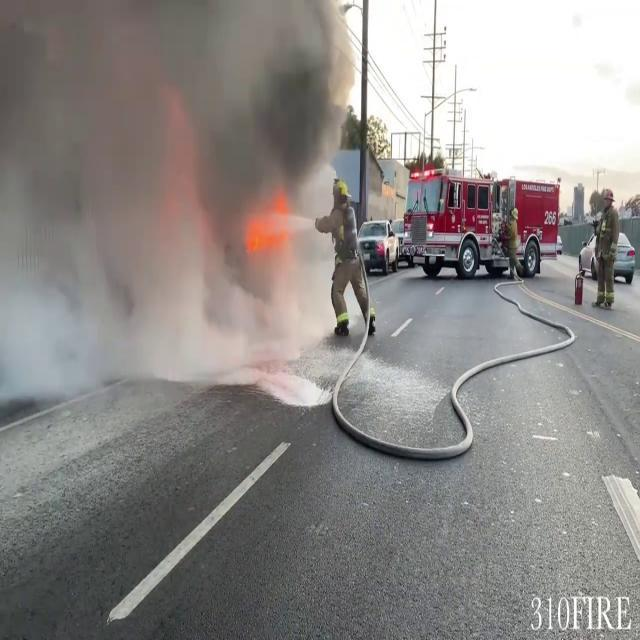Smoke: (1, 0, 369, 388)
